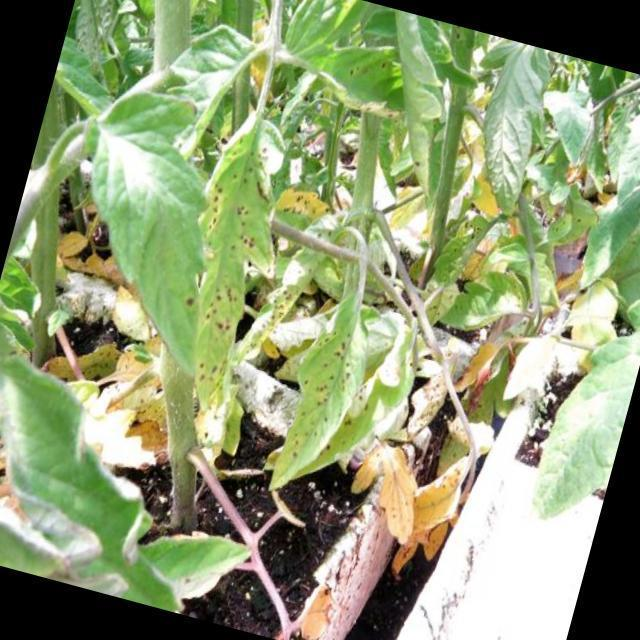Bacterial Spot: (150, 111, 307, 423), (264, 297, 386, 507), (266, 168, 341, 236)
